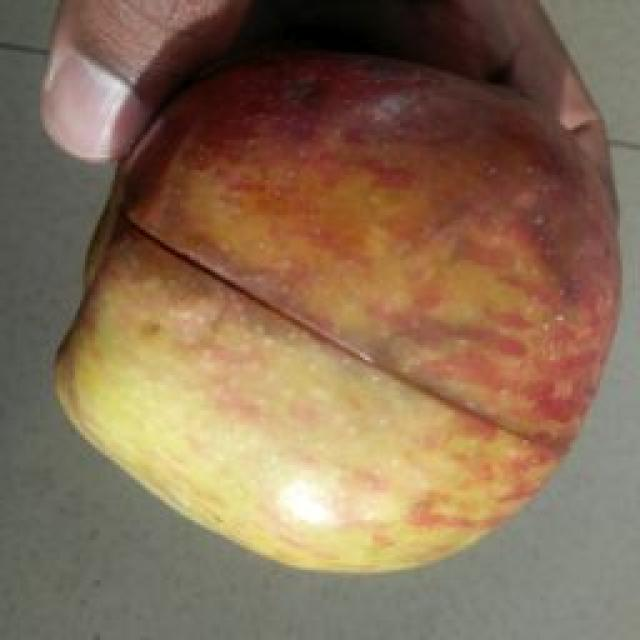Bad_Apple: (58, 54, 619, 571)
